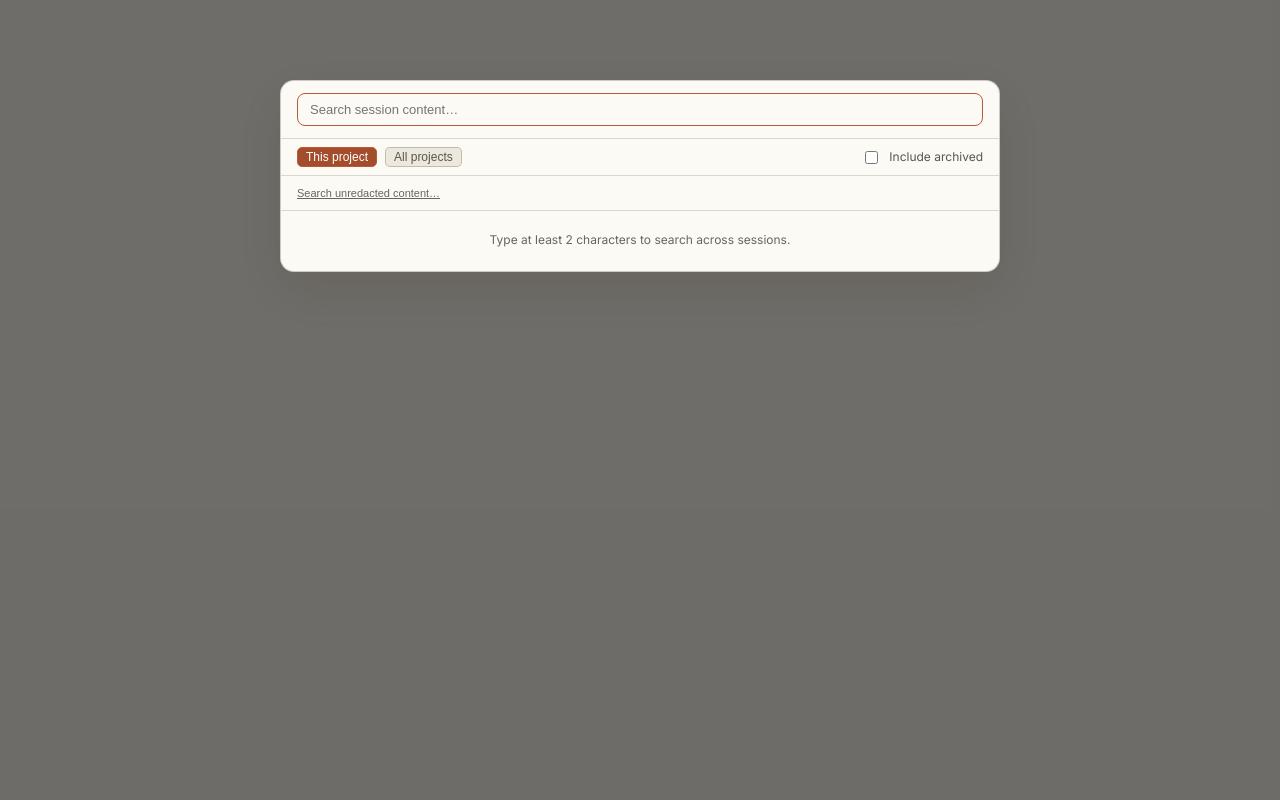
Test case: SessionSearchModal — raw opt-in typed-ack gate (C4-3) › the ack input does not echo the phrase it is asking for (U29)
Click the button with class "session-search-raw-link". click: (369, 193)
box: [297,187,440,199]
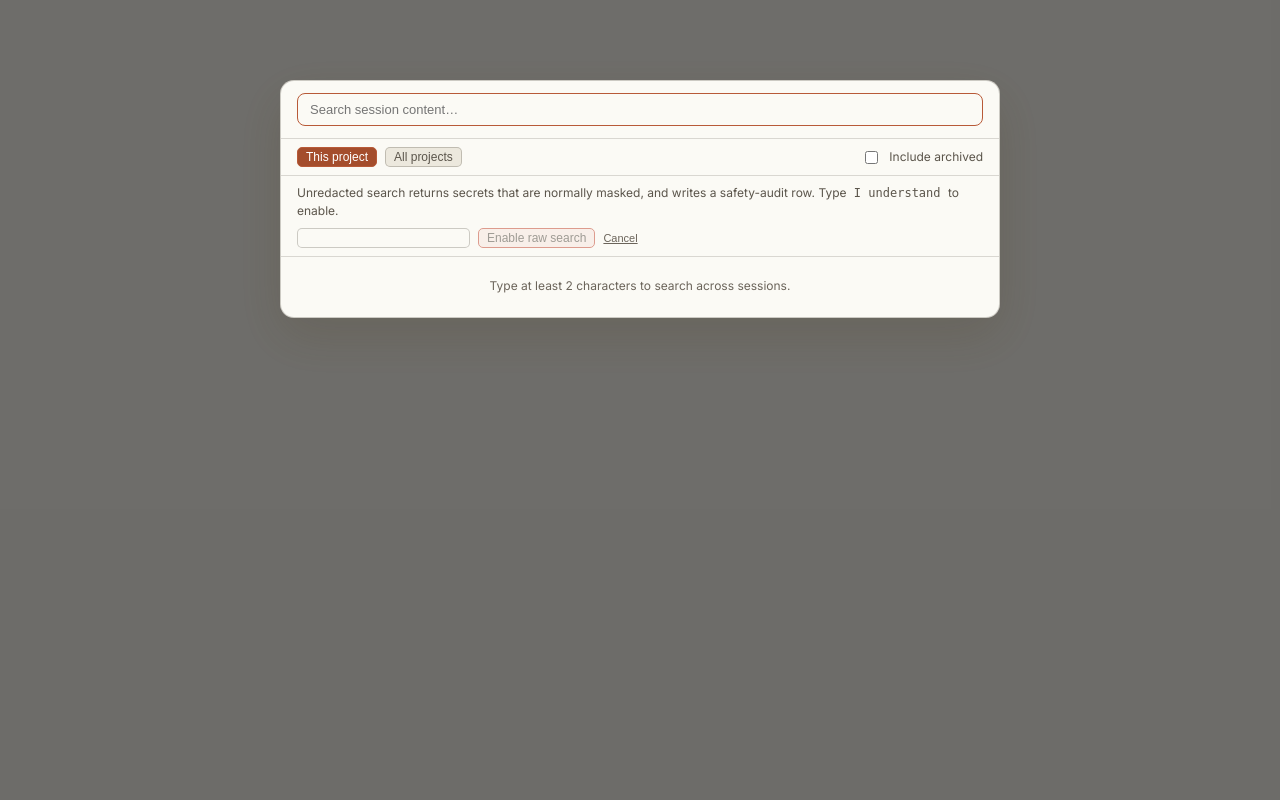
expect the field with class "session-search-raw-ack" is shown: met, box [297,228,470,248]
expect the element with class "session-search-raw-warn" shows "I understand": met, box [854,186,940,200]
expect the button with class "session-search-raw-confirm" is disabled: met, box [478,228,595,248]
